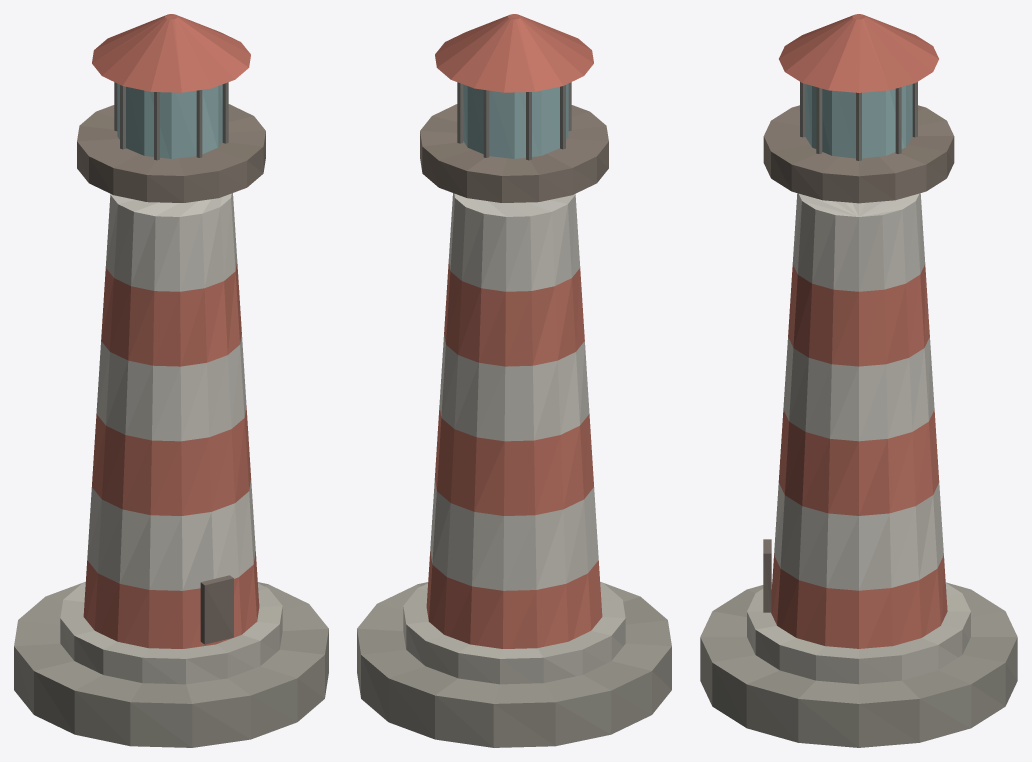
Rendered from lighthouse.glb.
3 views of the same model, side by side, from view 1: azimuth 30°, elevation 25°; view 2: azimuth 150°, elevation 25°; view 3: azimuth 270°, elevation 25° (orthographic).
Parts seen in each view (by area): view 1: stone_foot, tower_band_1, tower_band_2, tower_band_3, tower_band_5, balcony, tower_band_4, foundation, roof, tower_band_0, lantern_glass, door; view 2: stone_foot, tower_band_1, tower_band_2, tower_band_3, tower_band_5, balcony, tower_band_4, tower_band_0, foundation, roof, lantern_glass; view 3: stone_foot, tower_band_1, tower_band_2, tower_band_3, tower_band_5, balcony, tower_band_4, tower_band_0, foundation, roof, lantern_glass, door.
Boxes of the visible parts, x1,y1,x2,y2 form: stone_foot: (14,582,328,747); tower_band_1: (87,478,255,590); tower_band_2: (92,406,250,515); tower_band_3: (96,333,246,441); tower_band_5: (105,193,237,291); balcony: (77,104,265,202); tower_band_4: (101,261,241,366); foundation: (60,582,282,684); roof: (92,14,250,92); tower_band_0: (83,551,259,648); lantern_glass: (117,83,222,158); door: (200,575,233,644); stone_foot: (357,582,671,747); tower_band_1: (430,478,598,590); tower_band_2: (435,406,593,515); tower_band_3: (439,333,589,441); tower_band_5: (448,193,580,291); balcony: (420,104,608,202); tower_band_4: (444,261,584,366); tower_band_0: (426,551,602,648); foundation: (403,582,625,684); roof: (435,14,593,92); lantern_glass: (463,83,568,158); stone_foot: (700,582,1017,747); tower_band_1: (774,482,943,590); tower_band_2: (778,410,939,515); tower_band_3: (783,337,934,441); tower_band_5: (792,193,925,291); balcony: (763,105,954,203); tower_band_4: (788,264,929,366); tower_band_0: (771,555,947,648); foundation: (747,583,970,684); roof: (779,14,938,92); lantern_glass: (805,84,912,158); door: (763,539,771,612).
Bounding box in the file's own units: 1.7 × 3.92 × 1.7.
